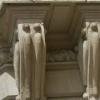Statue: (10, 12, 53, 99)
